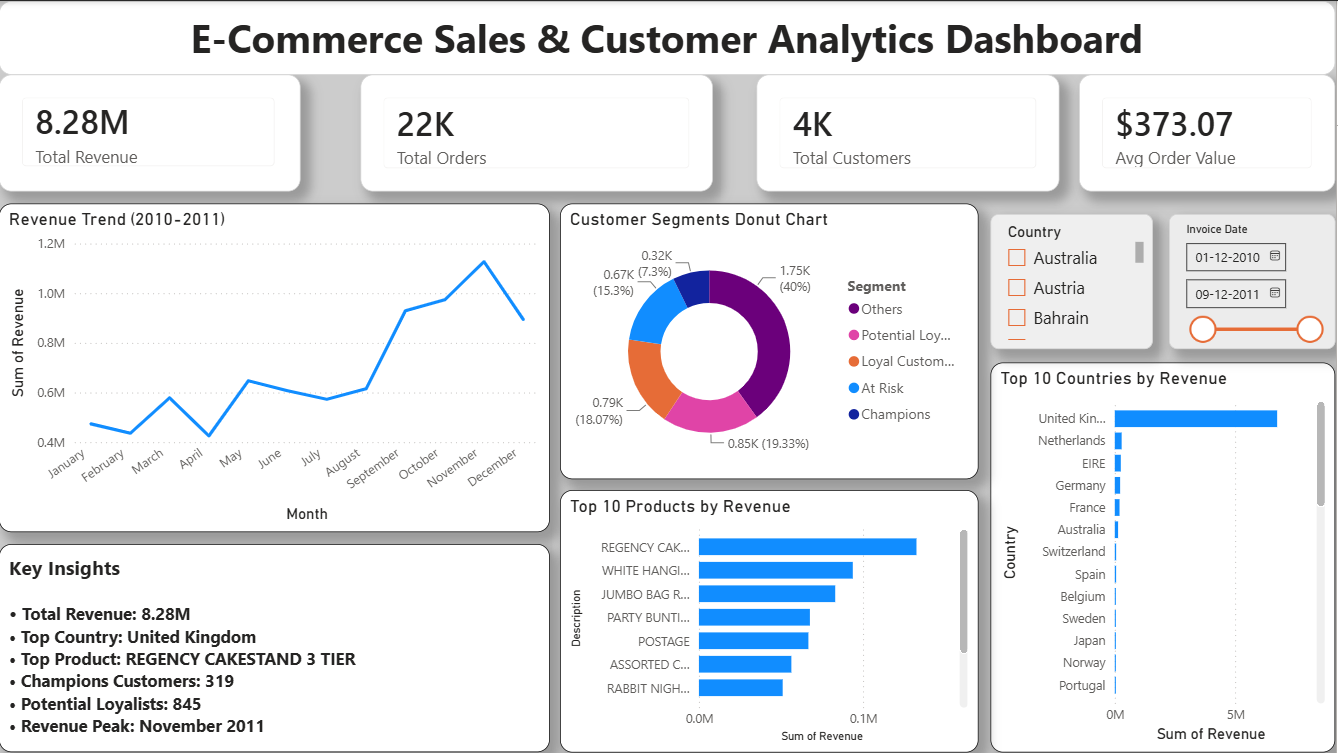

The dashboard page shown, as its layout file describes it:
{"tool":"powerbi","page":{"name":"Page 1","canvas":[1280,720],"ordinal":0},"visuals":[{"type":"cardVisual","fields":{"Data":["DateTable.Total Revenue"]},"box":[0,70.4,288.6,112],"z":0},{"type":"cardVisual","fields":{"Data":["DateTable.Total Orders"]},"box":[346.1,70.4,337.5,112],"z":1000},{"type":"cardVisual","fields":{"Data":["DateTable.Total Customers"]},"box":[725.2,70.4,290.1,112],"z":2000},{"type":"cardVisual","fields":{"Data":["DateTable.Avg Order Value"]},"box":[1034,70.4,245.6,112],"z":3000},{"type":"lineChart","title":"Revenue Trend (2010-2011)","fields":{"Category":["cleaned_ecommerce_data.InvoiceDate.Variation.Date Hierarchy.Year","cleaned_ecommerce_data.InvoiceDate.Variation.Date Hierarchy.Month"],"Y":["Sum(cleaned_ecommerce_data.Revenue)"]},"box":[0,193.9,527,314.5],"z":4000},{"type":"barChart","title":"Top 10 Countries by Revenue","fields":{"Category":["cleaned_ecommerce_data.Country"],"Y":["Sum(cleaned_ecommerce_data.Revenue)"]},"box":[949.2,346.1,330.3,373.4],"z":5000},{"type":"donutChart","title":"Customer Segments  Donut Chart","fields":{"Category":["rfm_segments.Segment"],"Y":["CountNonNull(rfm_segments.CustomerID)"]},"box":[537.1,193.9,400.7,264.2],"z":6000},{"type":"slicer","fields":{"Values":["cleaned_ecommerce_data.Country"]},"box":[949.2,203.9,155.1,129.2],"z":7000},{"type":"slicer","fields":{"Values":["cleaned_ecommerce_data.InvoiceDate"]},"box":[1120.1,203.9,159.4,129.2],"z":8000},{"type":"textbox","box":[0,0,1279.5,70.4],"z":9000},{"type":"textbox","box":[0,519.9,527,199.6],"z":10000},{"type":"barChart","title":"Top 10 Products by Revenue","fields":{"Category":["cleaned_ecommerce_data.Description"],"Y":["Sum(cleaned_ecommerce_data.Revenue)"]},"box":[537.1,468.2,400.7,251.3],"z":11000}]}

Visuals, with their boxes in screenshot pixels (x1, y1, x2, y2), scaled from the page's 1280x720 canvas onto the 1338x753 screenshot:
cardVisual - DateTable.Total Revenue: 0/74/302/191
cardVisual - DateTable.Total Orders: 362/74/715/191
cardVisual - DateTable.Total Customers: 758/74/1061/191
cardVisual - DateTable.Avg Order Value: 1081/74/1337/191
"Revenue Trend (2010-2011)" lineChart: 0/203/551/532
"Top 10 Countries by Revenue" barChart: 992/362/1337/752
"Customer Segments  Donut Chart" donutChart: 561/203/980/479
slicer - cleaned_ecommerce_data.Country: 992/213/1154/348
slicer - cleaned_ecommerce_data.InvoiceDate: 1171/213/1337/348
textbox: 0/0/1337/74
textbox: 0/544/551/752
"Top 10 Products by Revenue" barChart: 561/490/980/752
